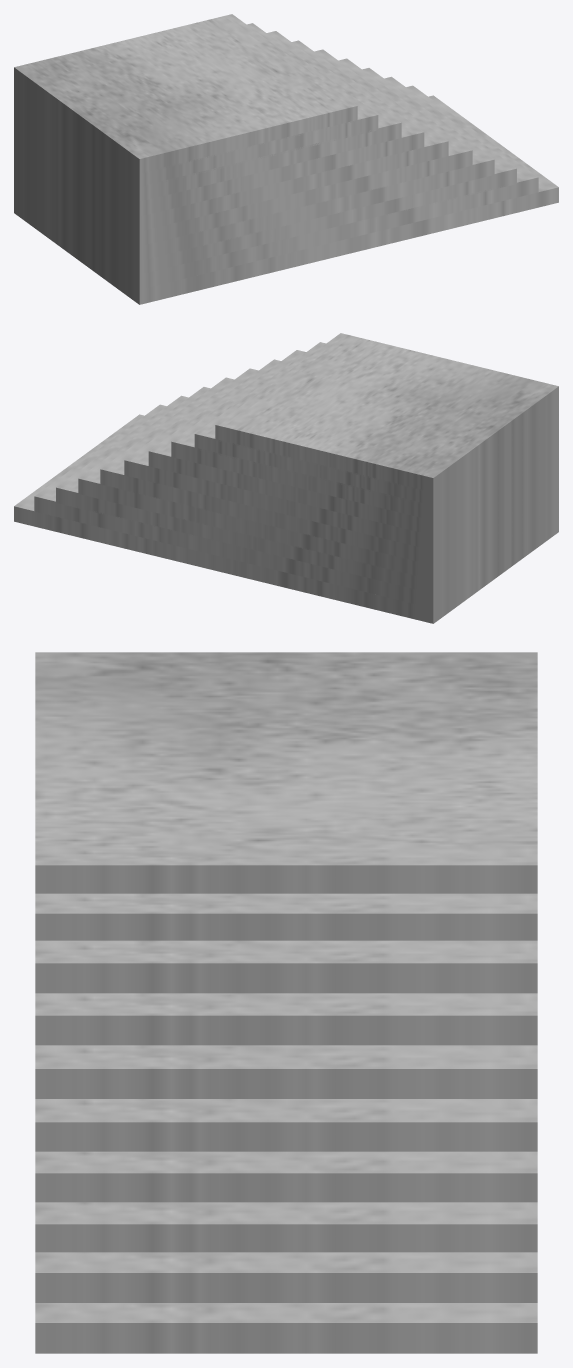
Rendered from stepenice.fbx.
3 views of the same model, one above another, from view 1: azimuth 30°, elevation 25°; view 2: azimuth 150°, elevation 25°; view 3: azimuth 270°, elevation 25° (orthographic). The views are drawn at different scales.
Visible parts, largest first — view 1: Plane.004; view 2: Plane.004; view 3: Plane.004.
Boxes of the visible parts, x1,y1,x2,y2 form: Plane.004: [14, 14, 558, 304]; Plane.004: [14, 333, 558, 623]; Plane.004: [35, 652, 537, 1353].
Size of the model in its own units: 678 by 225 by 351.
